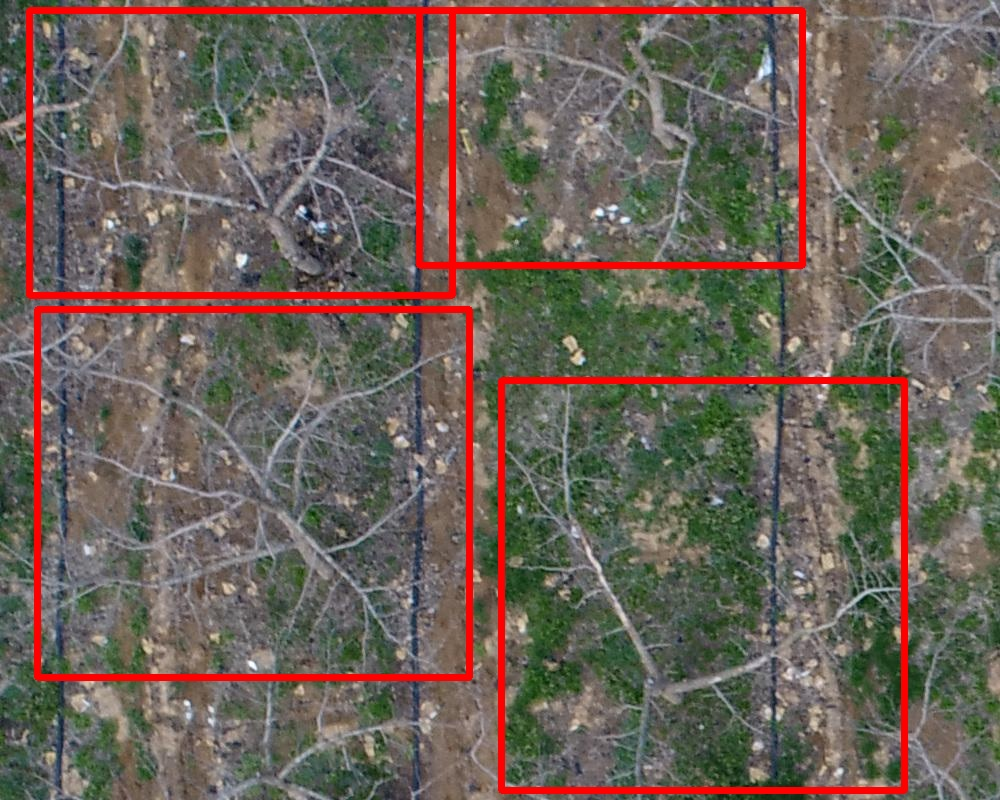apple: (501, 380, 904, 790), (37, 309, 469, 677), (29, 10, 452, 295), (419, 10, 802, 265)
